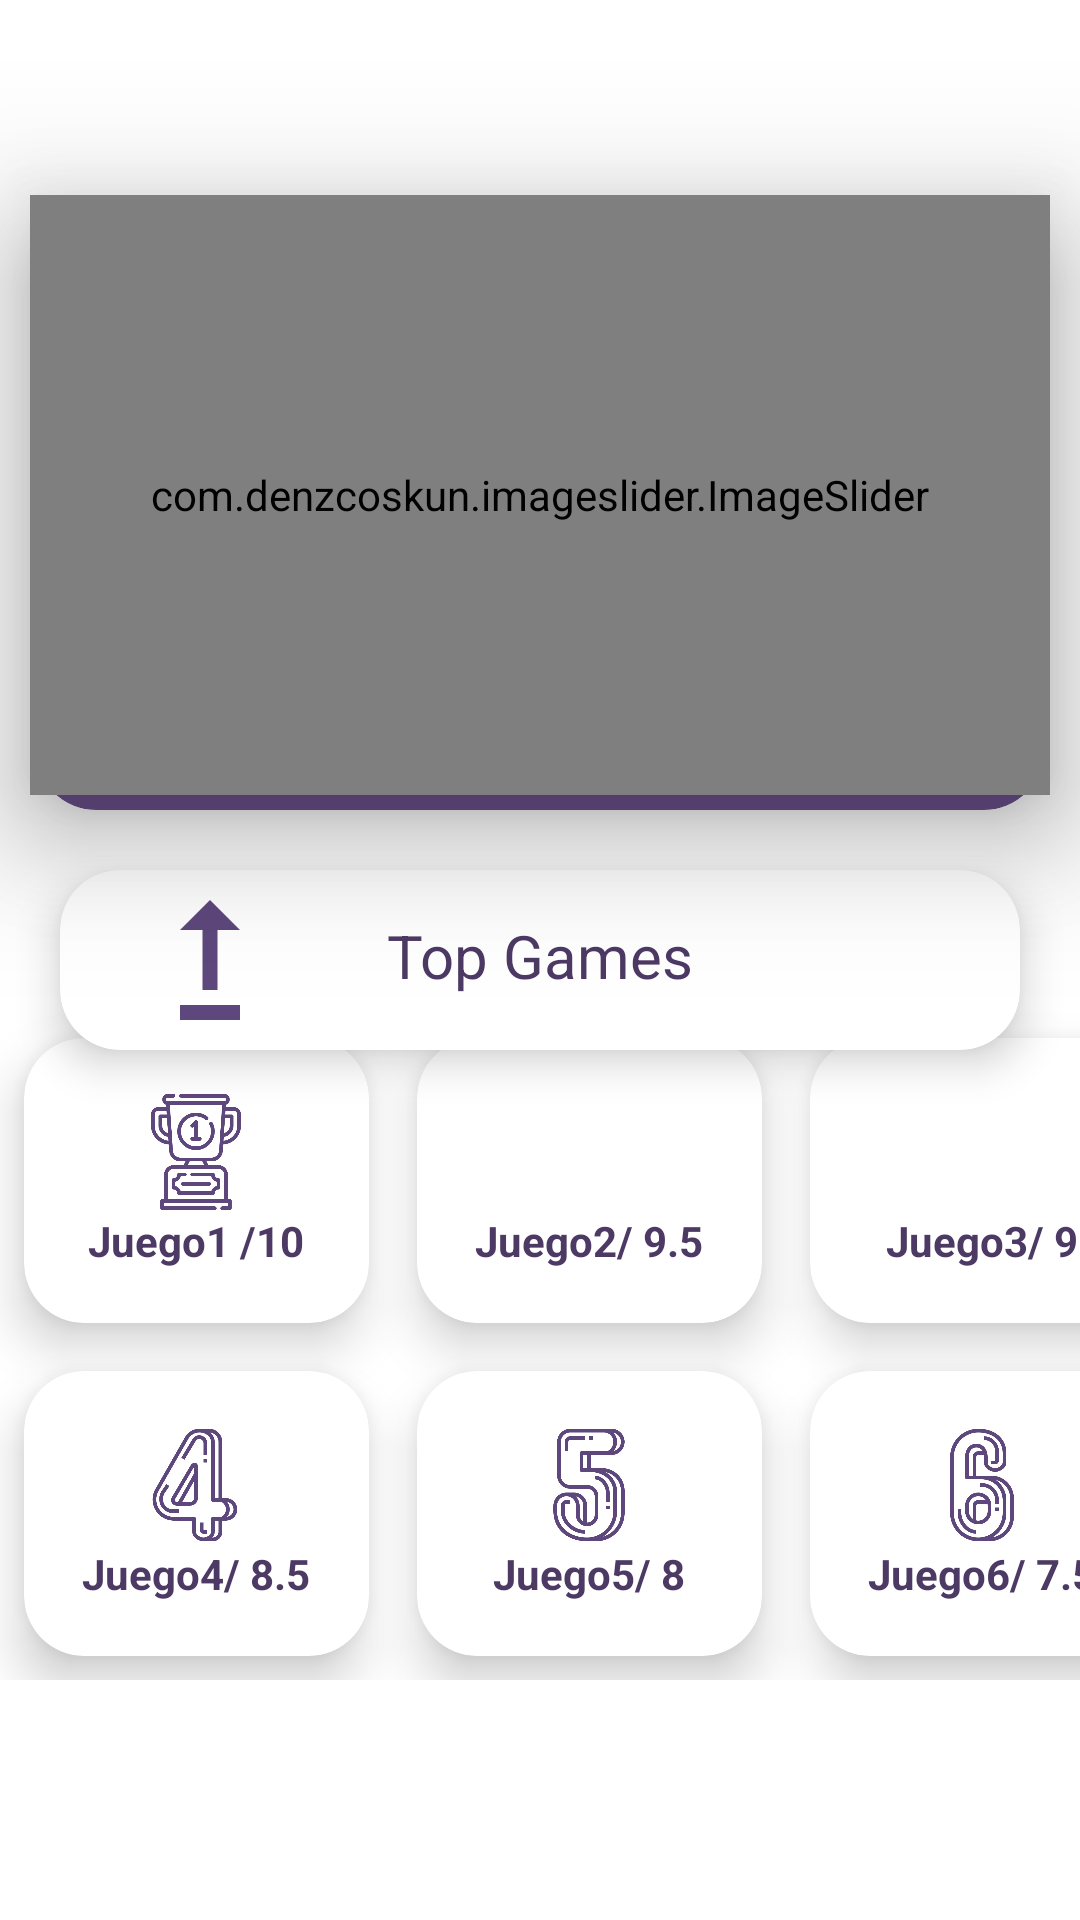

Named icons in this screenshot (1080w x 1920h) and their bounding boxes, (x1, y1, x2, y2):
fifth: (553, 1429, 625, 1541)
fourth: (152, 1429, 237, 1541)
sixth: (950, 1429, 1014, 1541)
upgrade: (180, 900, 240, 1020)
